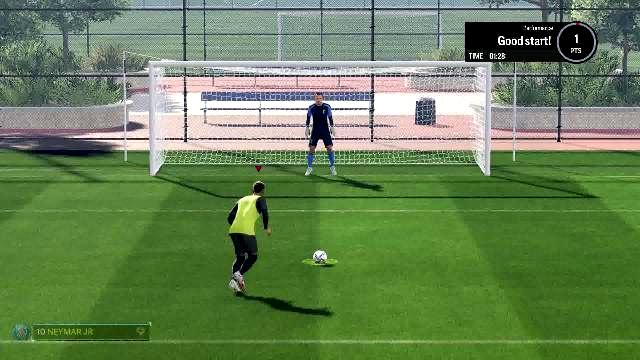bottom-left: (160, 124, 260, 173)
bottom-right: (375, 121, 481, 174)
center-down: (260, 124, 370, 176)
center-up: (262, 67, 372, 123)
circle: (300, 258, 338, 266)
football: (313, 251, 329, 265)
goalkeeper: (299, 92, 345, 178)
player: (222, 180, 278, 296)
top-left: (157, 67, 261, 123)
top-right: (372, 69, 482, 121)
